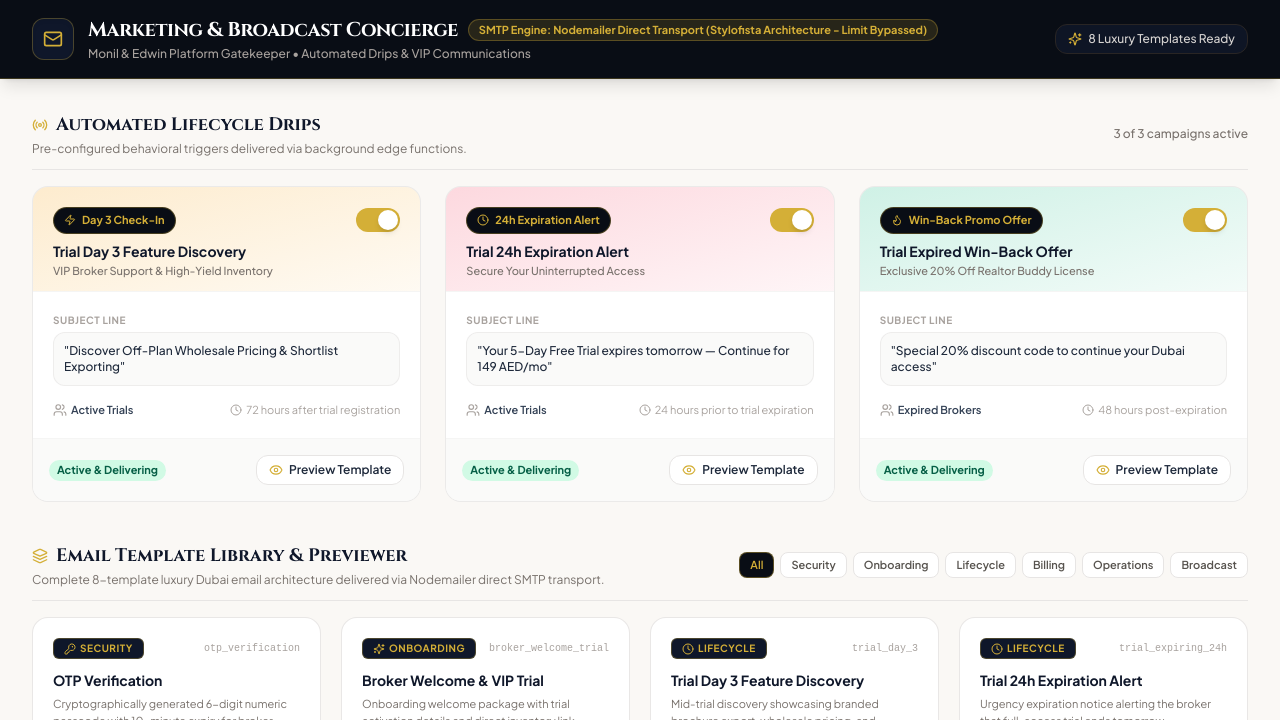
Test: AdminMarketing Component › opens and closes email template preview modal
The width and height of the screenshot is (1280, 720).
Click the button "Preview Template" below "72 hours after trial registration".
click(330, 470)  # box [256, 455, 404, 485]
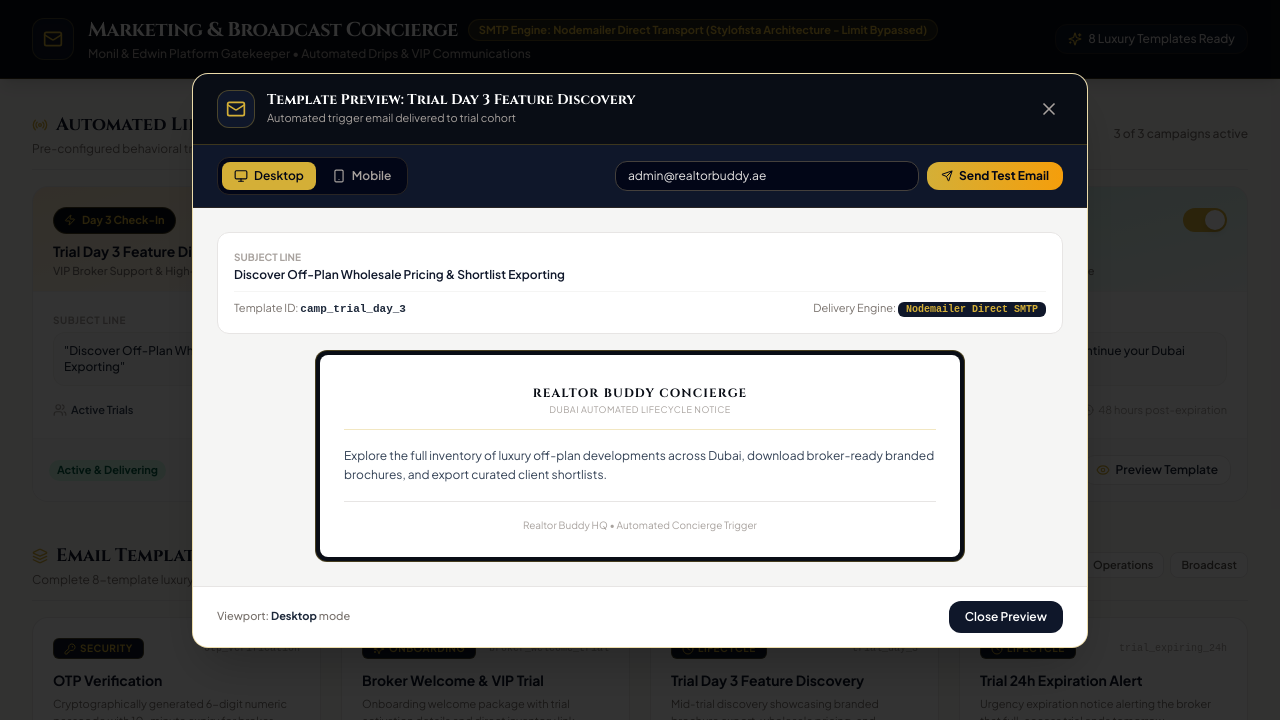
Expected: the dialog is shown
Expected: the heading "Template Preview: Trial Day 3 Feature Discovery" is shown, [267, 90, 635, 110]
Expected: the text "Discover Off-Plan Wholesale Pricing & Shortlist Exporting" is shown, [234, 266, 565, 282]
# Close modal via close button
Click the button "Close Preview".
click(1006, 616)  # box [949, 600, 1063, 632]
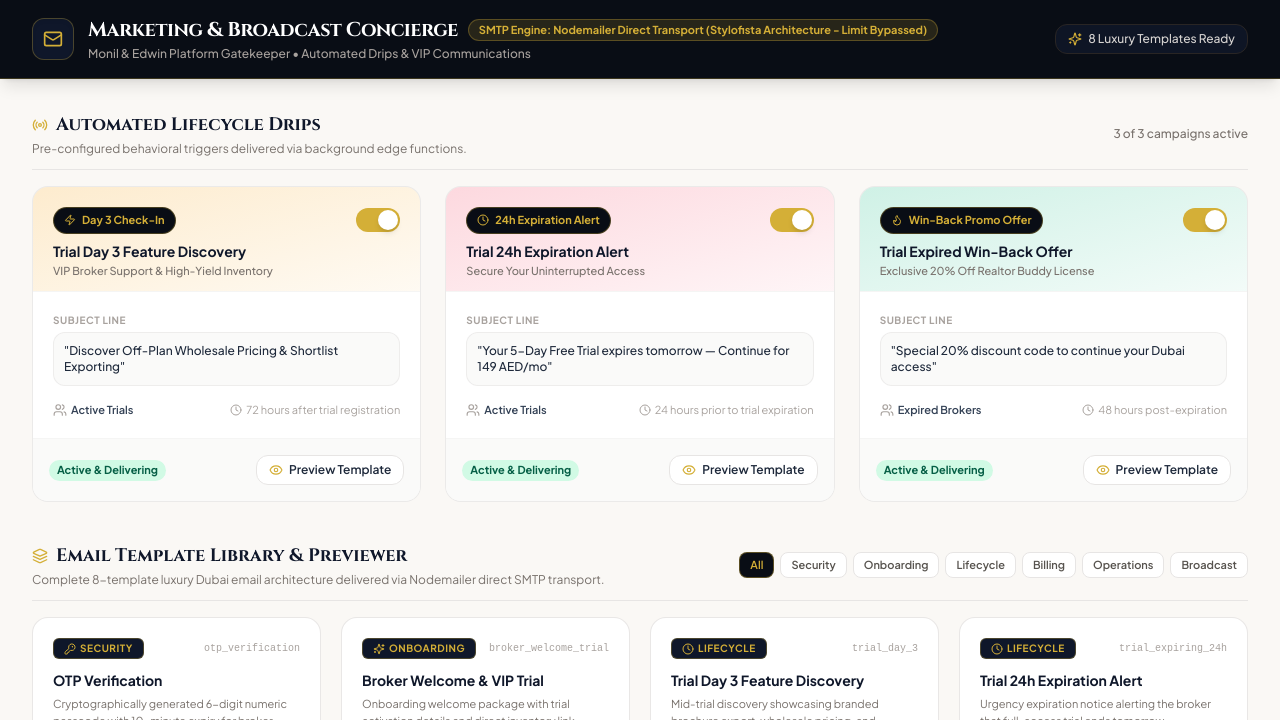
Expected: the dialog is gone
